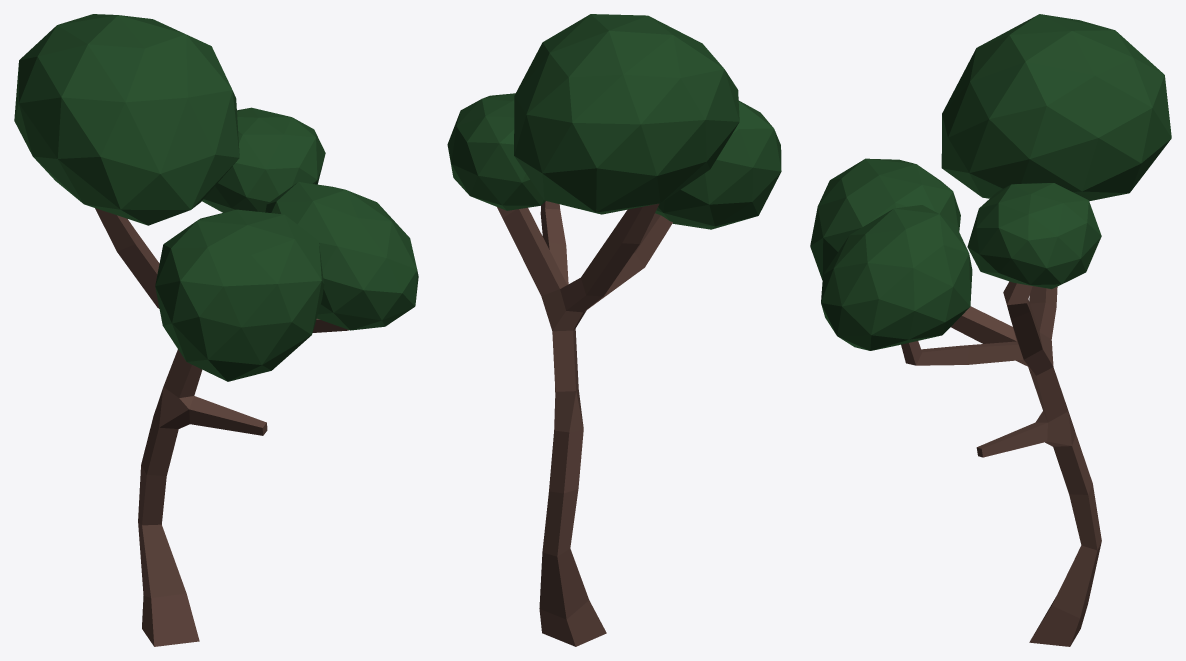
File: Tree(4).fbx
3 renders of one model, left to right at view 1: azimuth 30°, elevation 25°; view 2: azimuth 150°, elevation 25°; view 3: azimuth 270°, elevation 25°, orthographic. The views are drawn at different scales.
Visible parts, largest first — view 1: Tree(4); view 2: Tree(4); view 3: Tree(4).
Part boxes in pixels (bbox=[...]): Tree(4): bbox=[14, 14, 418, 646]; Tree(4): bbox=[447, 14, 781, 646]; Tree(4): bbox=[810, 14, 1171, 646].
Bounding box in the file's own units: 4.11 × 8.4 × 4.71.
